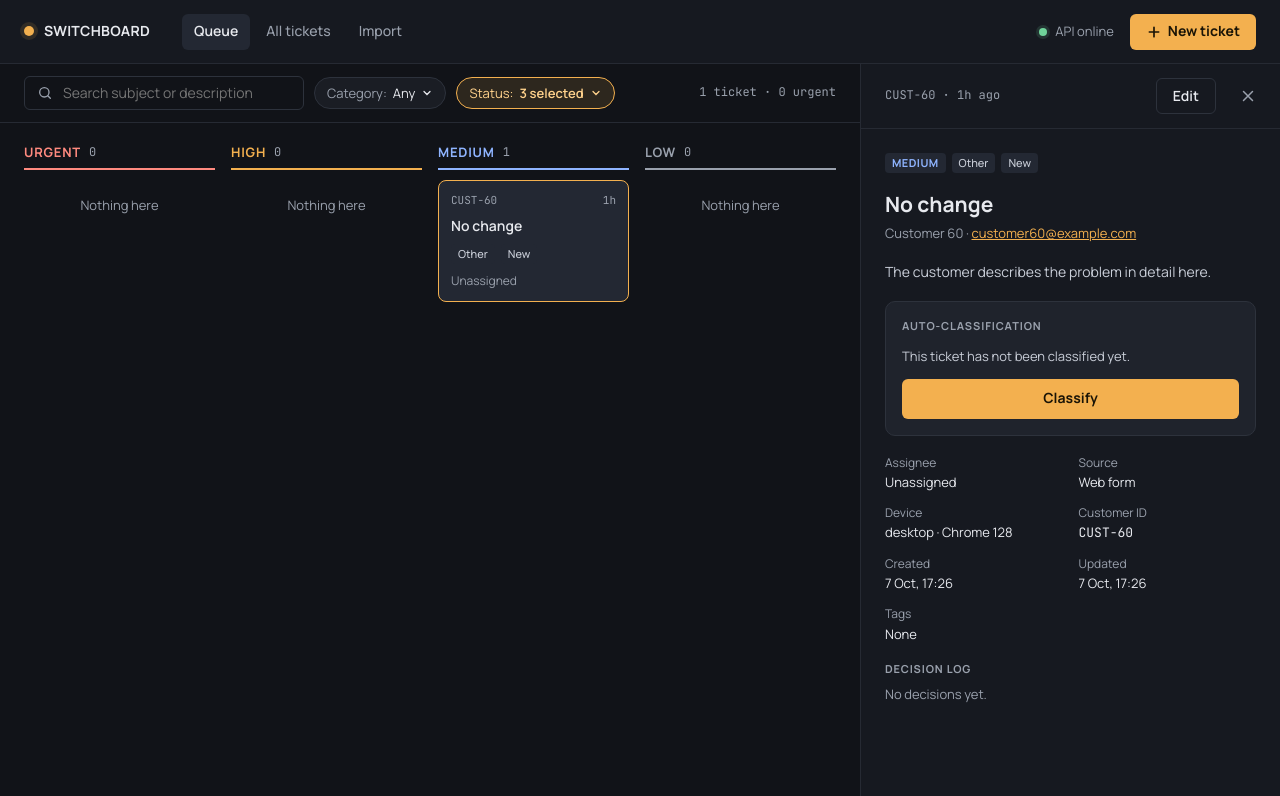
it: Editing and deleting › does not send a request when nothing changed, and Escape leaves edit mode first
The width and height of the screenshot is (1280, 796).
Click the button "Edit".
click(1186, 96)  # box [1156,78,1216,114]
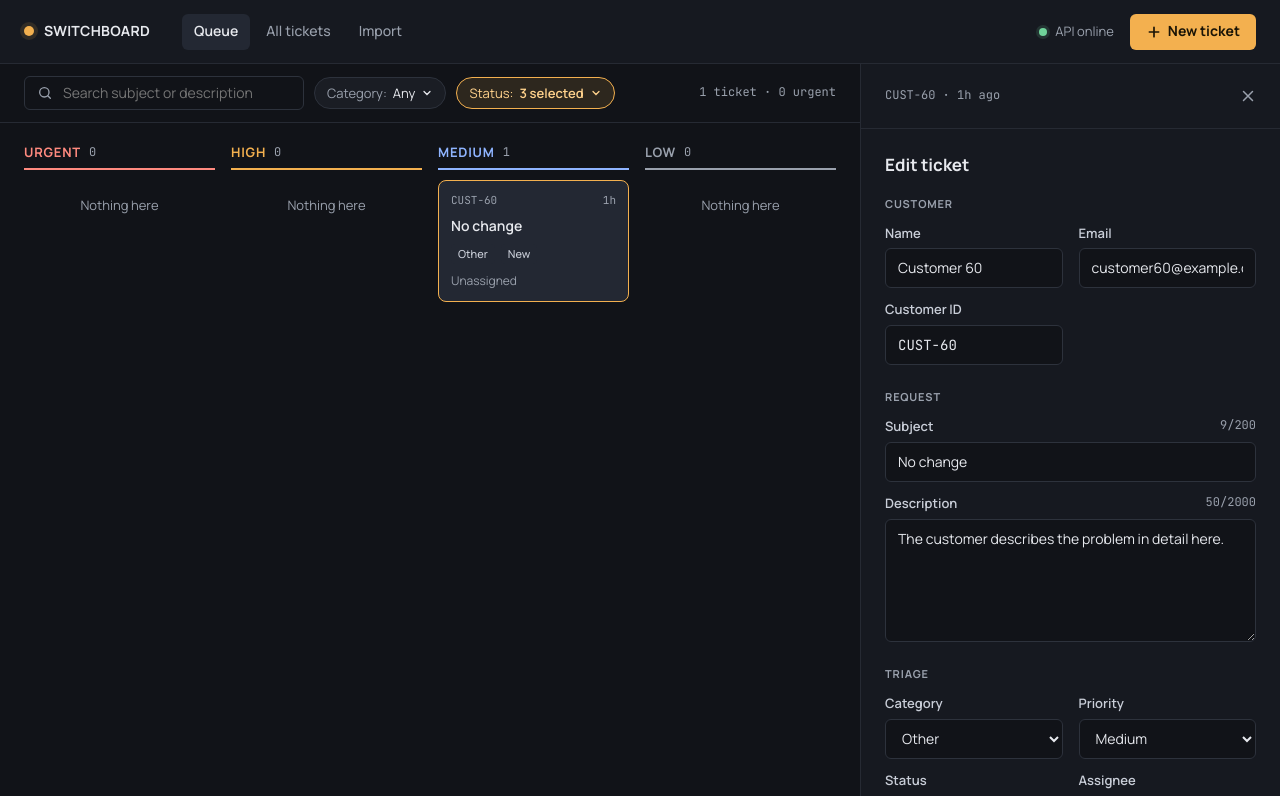
Press Escape
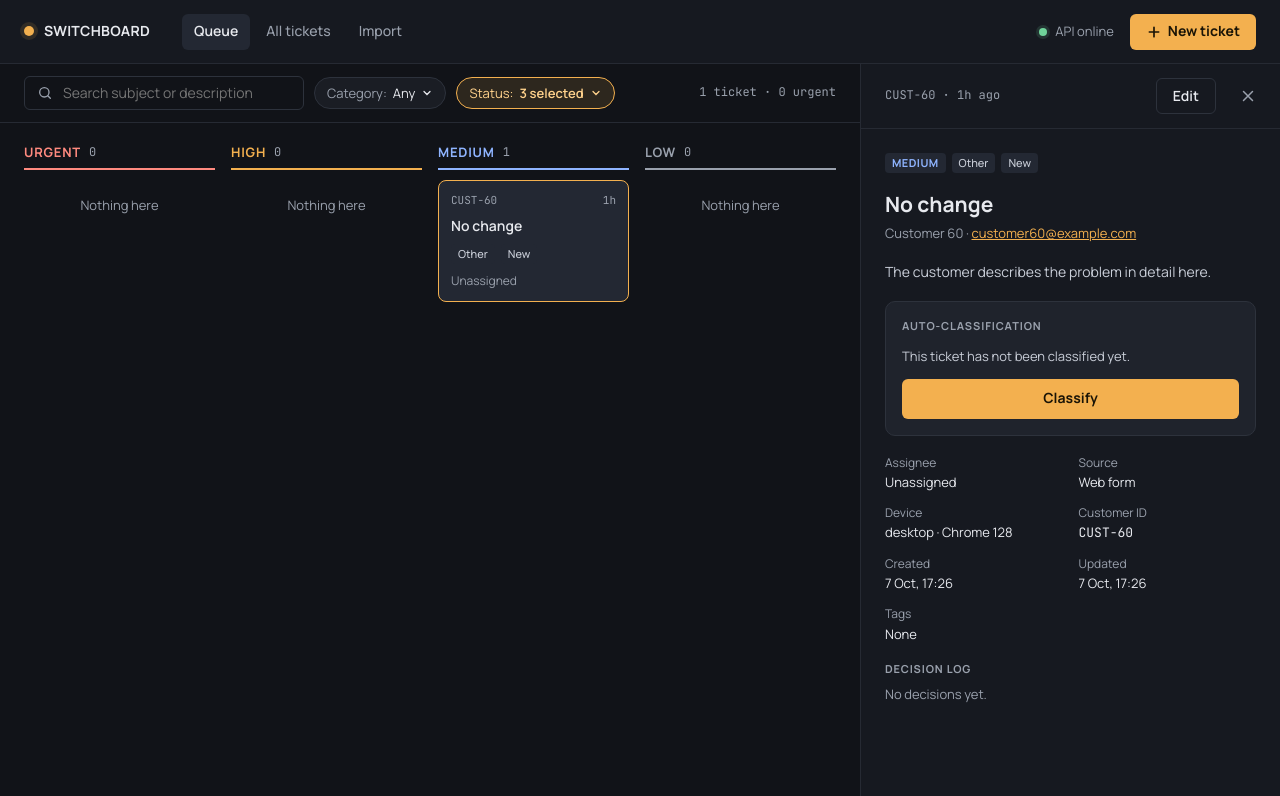
Click the button "Edit".
click(1186, 96)  # box [1156,78,1216,114]
(page scrolled)
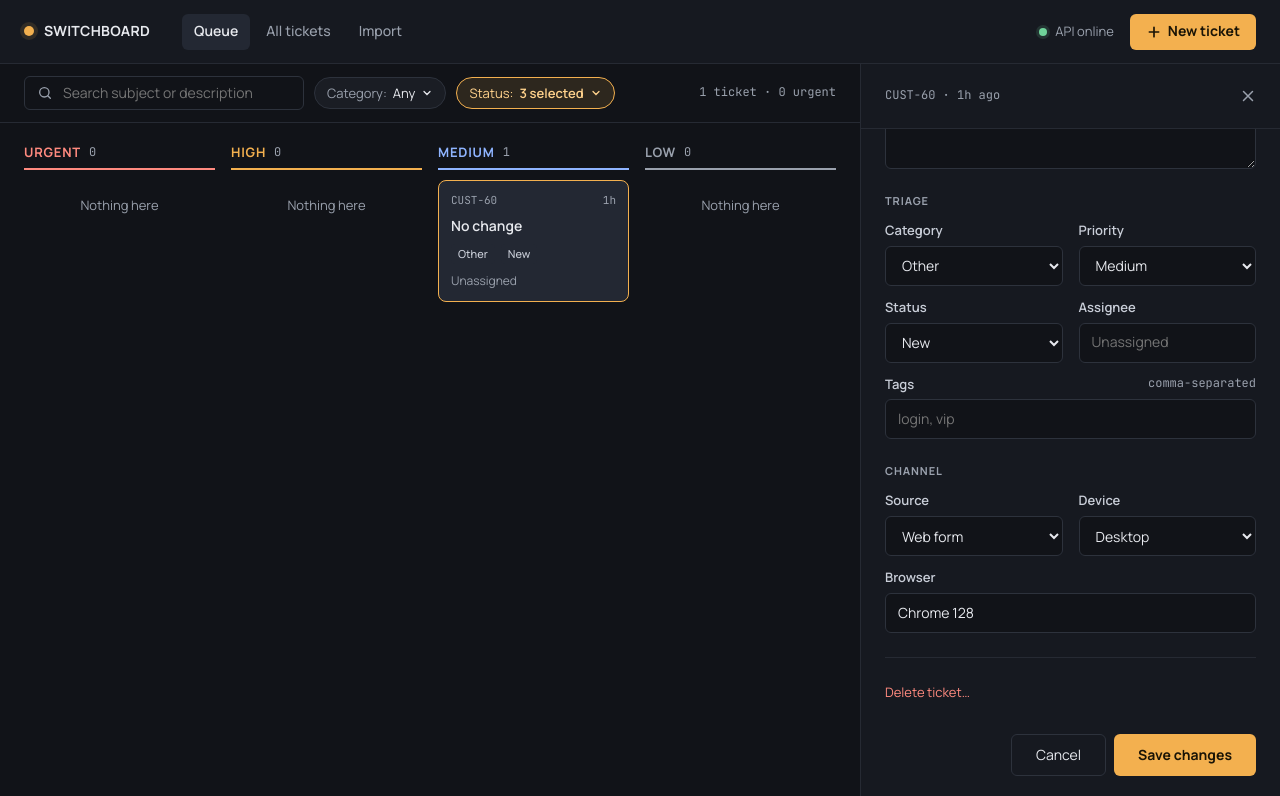
Click the button "Save changes".
click(1185, 755)  # box [1114,734,1256,776]
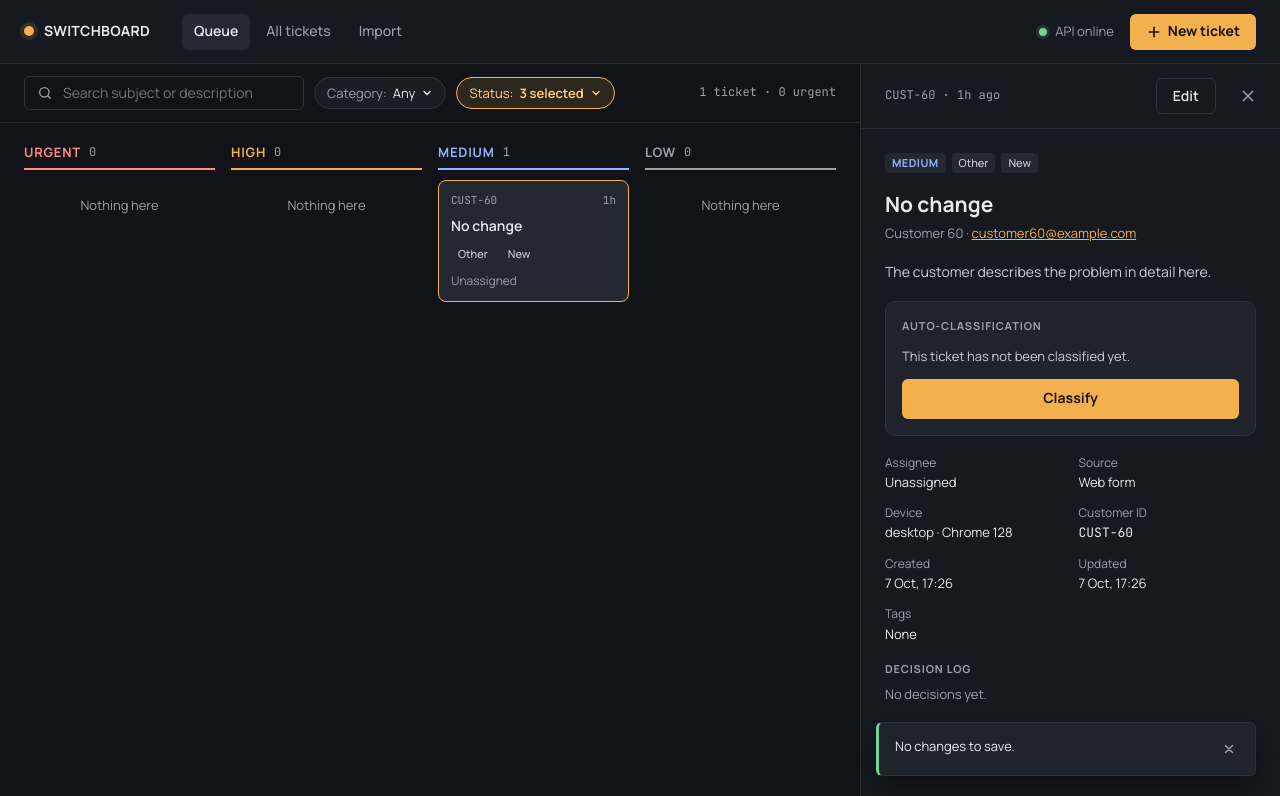
Check: the text "No changes to save." is shown, box [895,737,1015,755]
